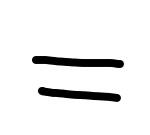eqv: (29, 52, 126, 104)
